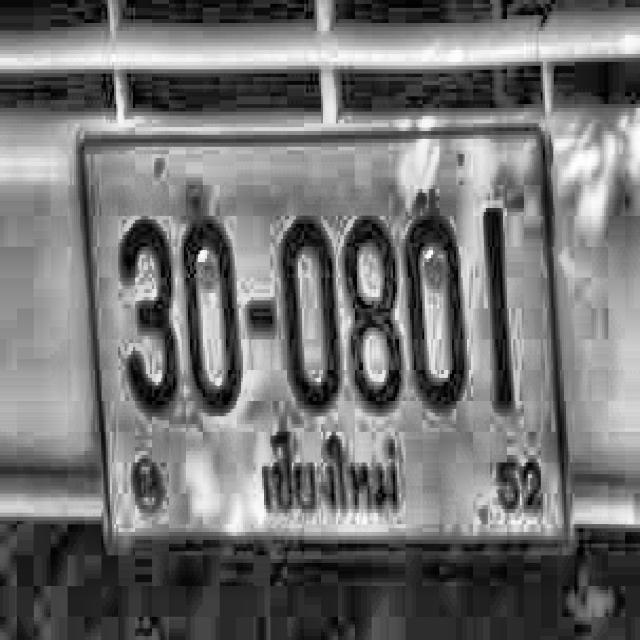license-plate: (63, 79, 584, 592)
